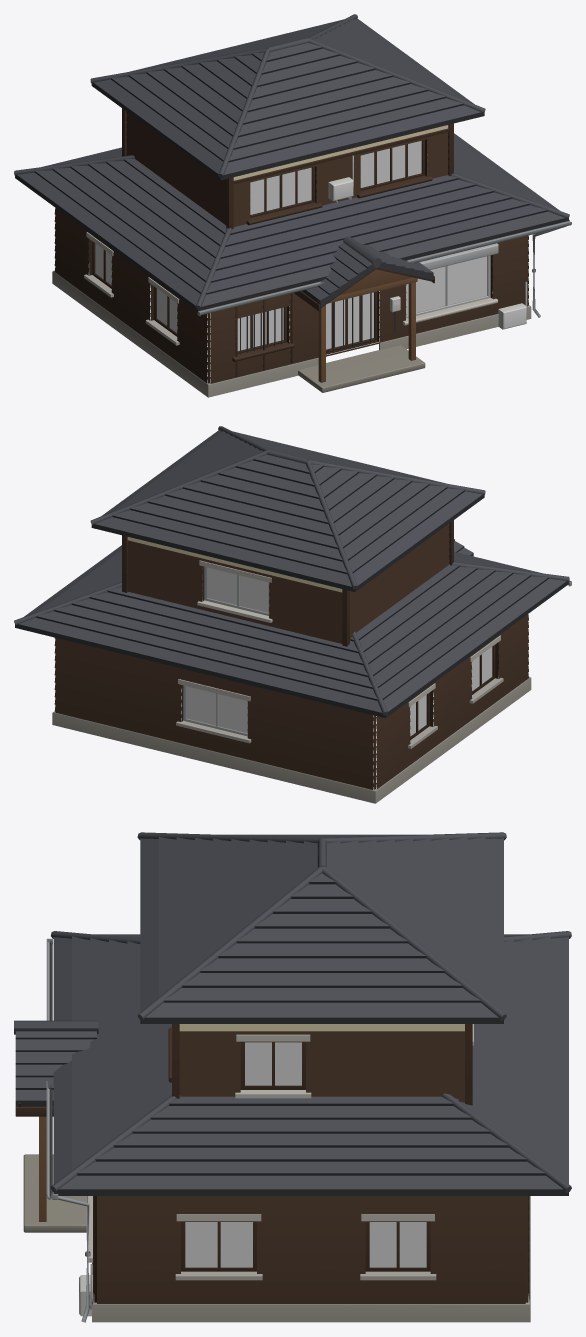
Rendered from HomeOldKM.fbx.
3 renders of one model, top to bottom at view 1: azimuth 30°, elevation 25°; view 2: azimuth 150°, elevation 25°; view 3: azimuth 270°, elevation 25°, orthographic. The views are drawn at different scales.
Visible parts, largest first — view 1: HomeOldKM; view 2: HomeOldKM; view 3: HomeOldKM.
Part boxes in pixels (<box>): HomeOldKM: <box>14,14,571,397</box>; HomeOldKM: <box>14,426,571,803</box>; HomeOldKM: <box>14,832,571,1322</box>.
Size of the model in its own units: 11.21 by 7.3 by 10.28.
